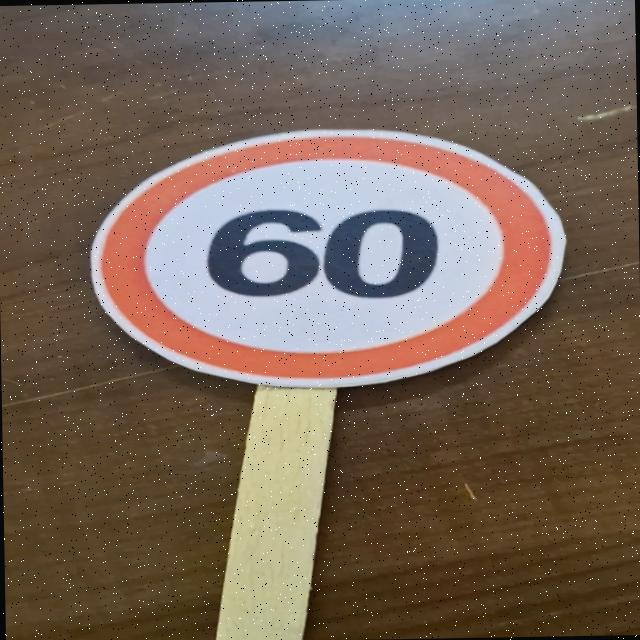Speed60: (79, 119, 572, 389)
